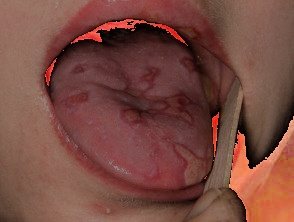SJS-TEN: (30, 0, 276, 222)
